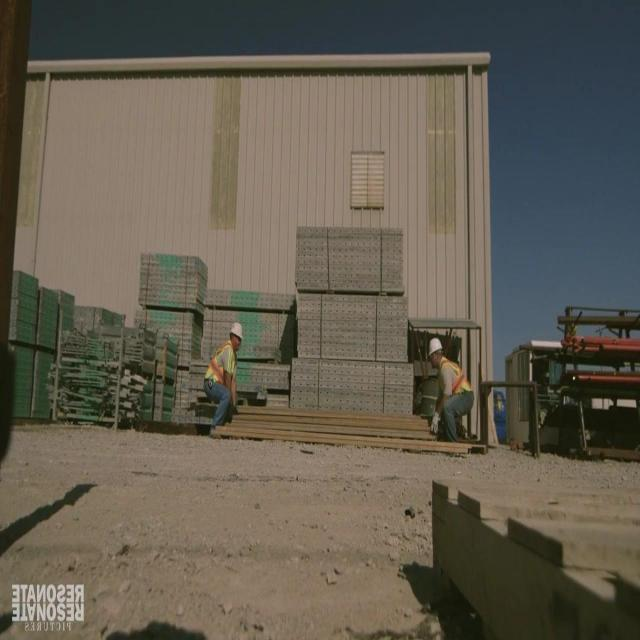Reflective-Jacket: (432, 354, 476, 418), (201, 338, 241, 396)
Safety-Helmet: (227, 316, 248, 346), (425, 332, 445, 362)
